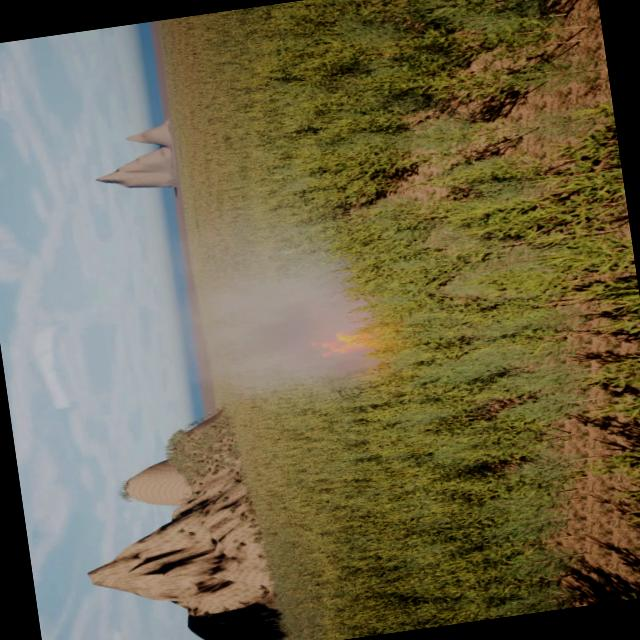fire: (301, 323, 376, 364)
smoke: (136, 210, 382, 412)
